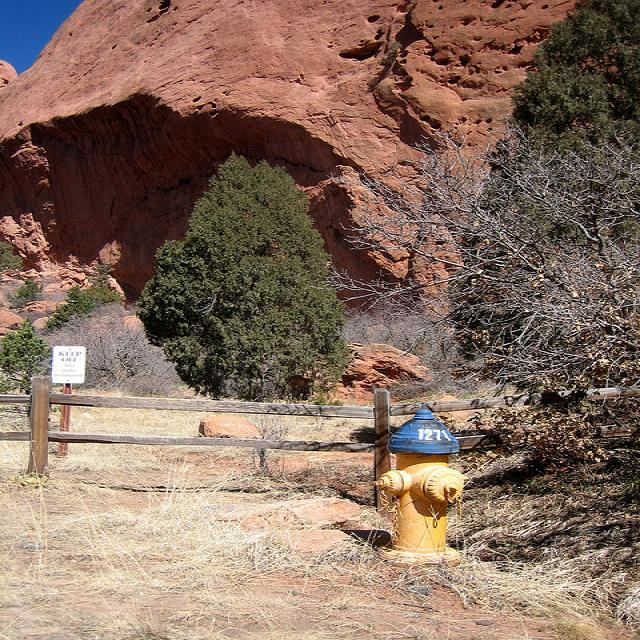fire_hydrant: (372, 400, 467, 569)
